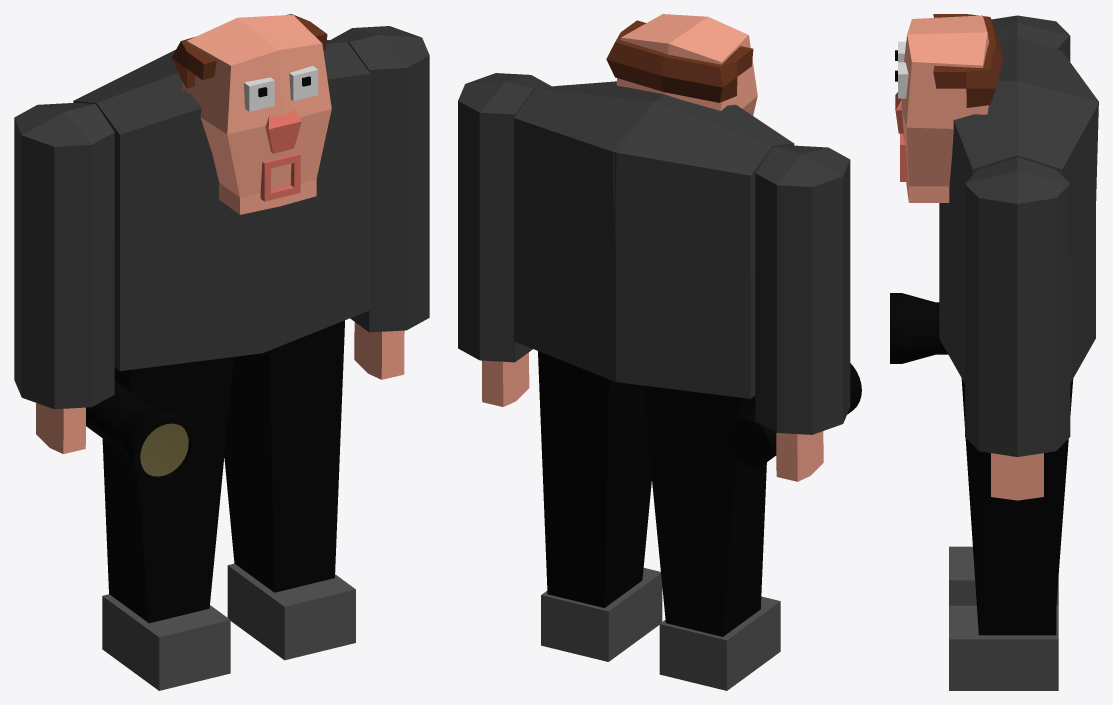
File: oldman.fbx
The picture shows the model from 3 angles, left to right: view 1: azimuth 30°, elevation 25°; view 2: azimuth 150°, elevation 25°; view 3: azimuth 270°, elevation 25°; orthographic projection. The views are drawn at different scales.
Parts seen in each view (by area): view 1: Cube, Cube.026, Cube.003, Cube.027, Cube.002, Cube.001, Cube.028, Cube.008, Cylinder, Cube.024, Cube.025, Cube.004 (+4 smaller); view 2: Cube, Cube.026, Cube.027, Cube.003, Cube.002, Cube.028, Cube.008, Cube.001, Cube.004, Cylinder, Cube.025, Cube.024; view 3: Cube.002, Cube, Cube.003, Cube.001, Cube.008, Cylinder, Cube.004, Cube.024, Cube.026, Cube.028, Cube.009.
Boxes of the visible parts, x1,y1,x2,y2 form: Cube: (73,40,370,370); Cube.026: (14,102,114,409); Cube.003: (224,320,344,592); Cube.027: (102,357,233,623); Cube.002: (330,26,429,332); Cube.001: (182,15,331,214); Cube.028: (102,594,230,690); Cube.008: (227,563,355,660); Cylinder: (86,380,197,485); Cube.024: (354,322,404,379); Cube.025: (36,403,85,453); Cube.004: (171,14,327,88); Cube: (514,81,794,398); Cube.026: (755,145,850,434); Cube.027: (643,385,766,636); Cube.003: (538,351,651,607); Cube.002: (458,73,551,362); Cube.028: (659,596,780,690); Cube.008: (541,568,662,661); Cube.001: (616,14,757,115); Cube.004: (606,20,753,102); Cylinder: (727,363,861,467); Cube.025: (776,431,823,481); Cube.024: (482,352,529,406); Cube.002: (965,157,1070,456); Cube: (939,37,1098,383); Cube.003: (961,378,1073,635); Cube.001: (901,15,989,202); Cube.008: (949,605,1058,690); Cylinder: (890,293,947,363); Cube.004: (933,14,1002,107); Cube.024: (991,453,1043,500); Cube.026: (991,15,1070,61); Cube.028: (949,546,1058,605); Cube.009: (898,62,908,98).
Size of the model in its own units: 319 by 484 by 150.
